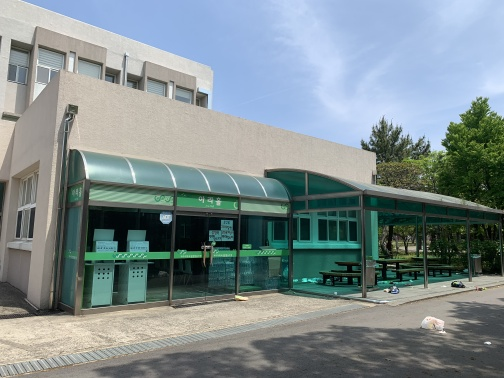Ara Hall: (17, 79, 499, 315)
